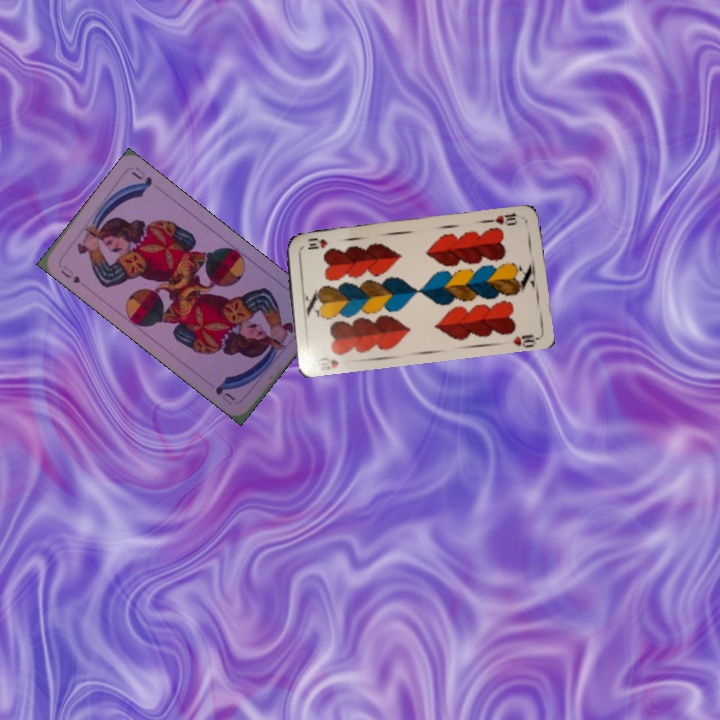H10: (484, 208, 520, 228), (312, 353, 341, 373)
SU: (57, 261, 83, 286)
